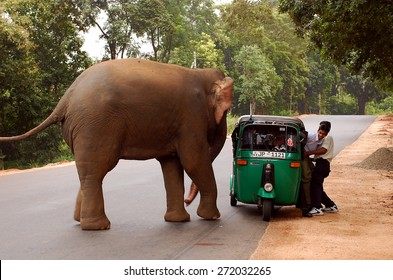threewheel: (232, 115, 303, 221)
